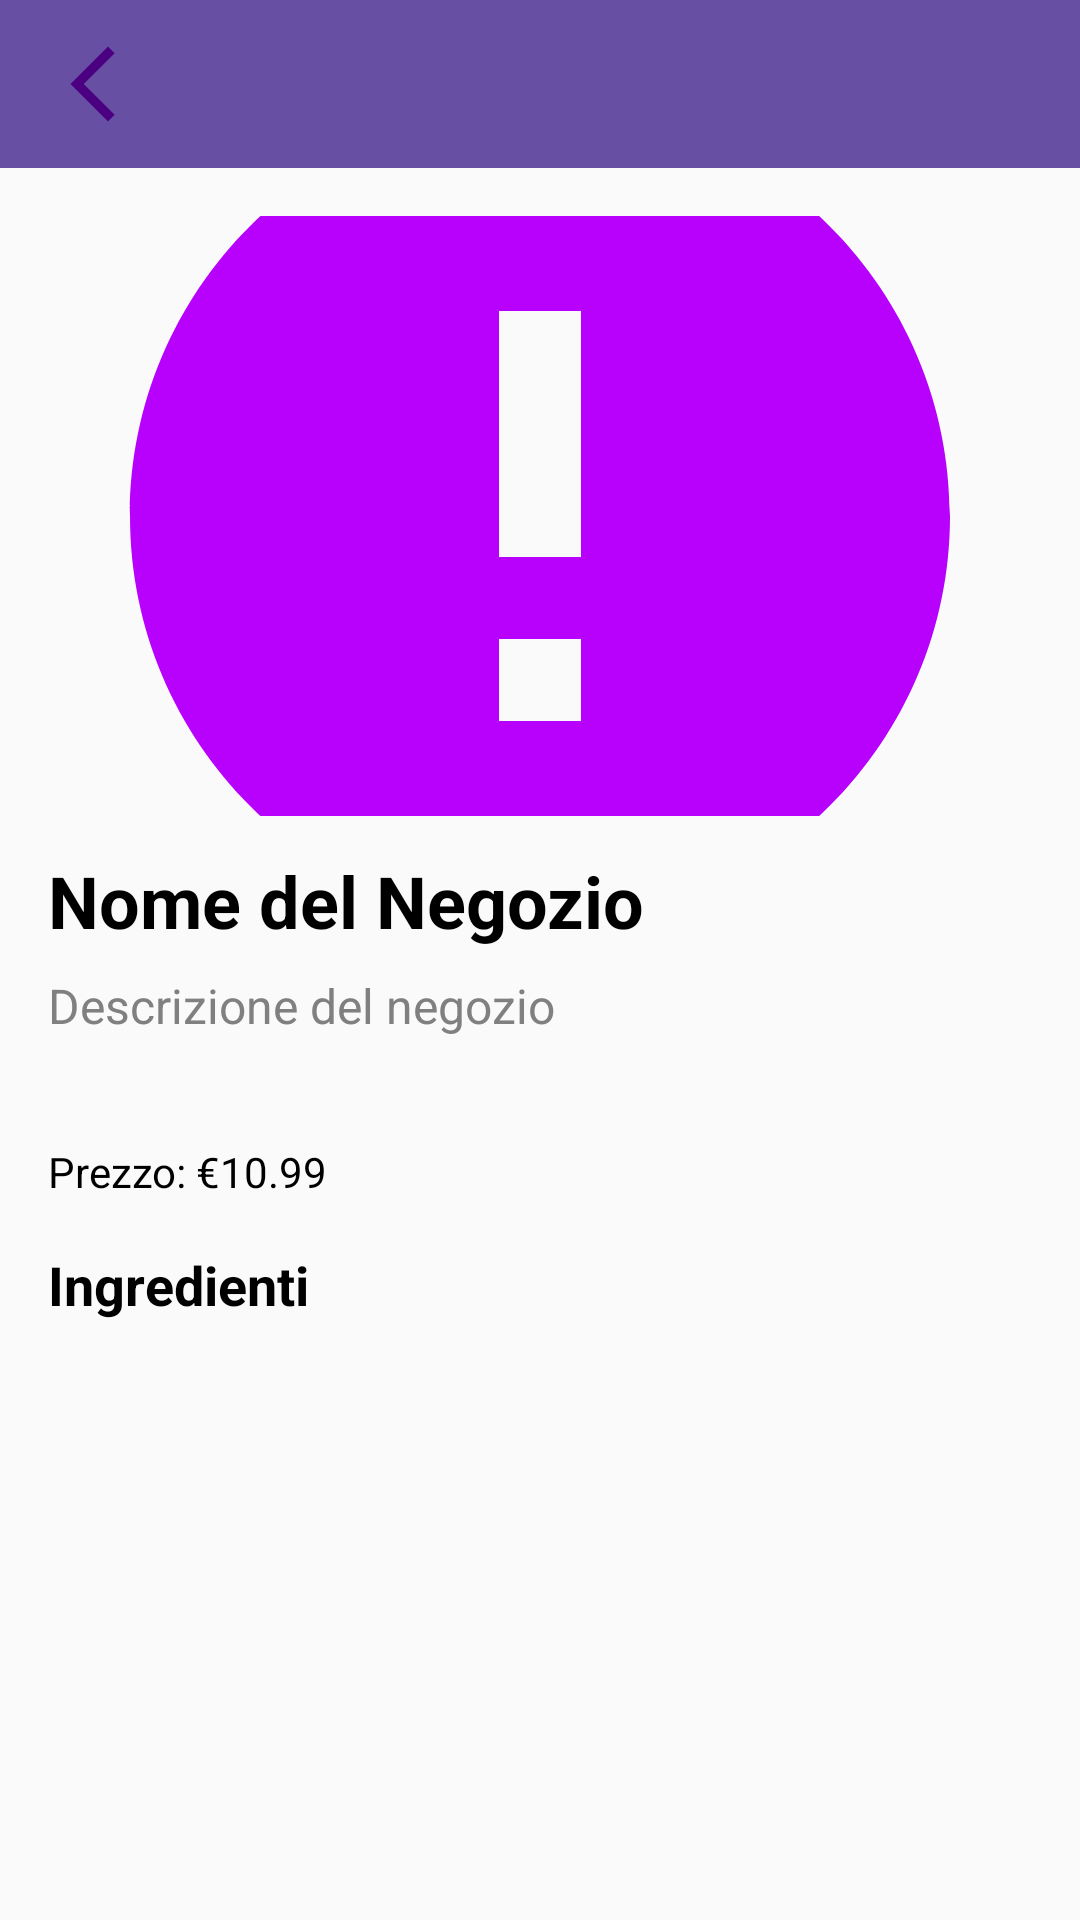

Where to tap for icons on this 1080×1920 app screen, as [x,y]:
arrow back: [93,84]
